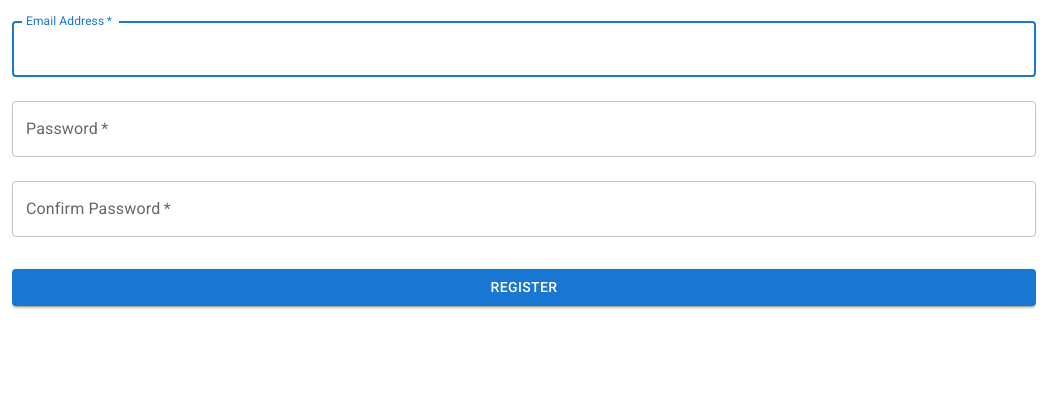
RegistrationForm › should display error message on failed registration
Step 1. Type "existing@example.com" into the field labelled "Email Address *" → (524, 49), box [12,21,1036,77]
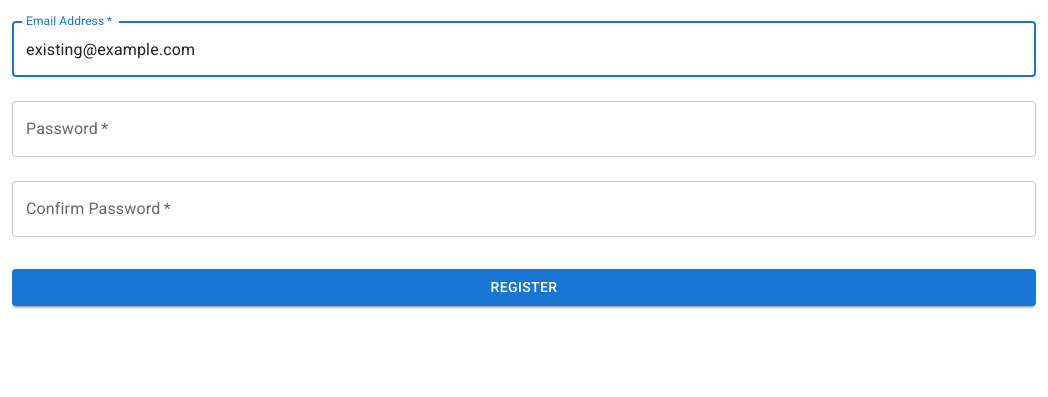
Step 2. Type "password123" into the password field labelled "Password *" → (524, 129), box [12,101,1036,157]
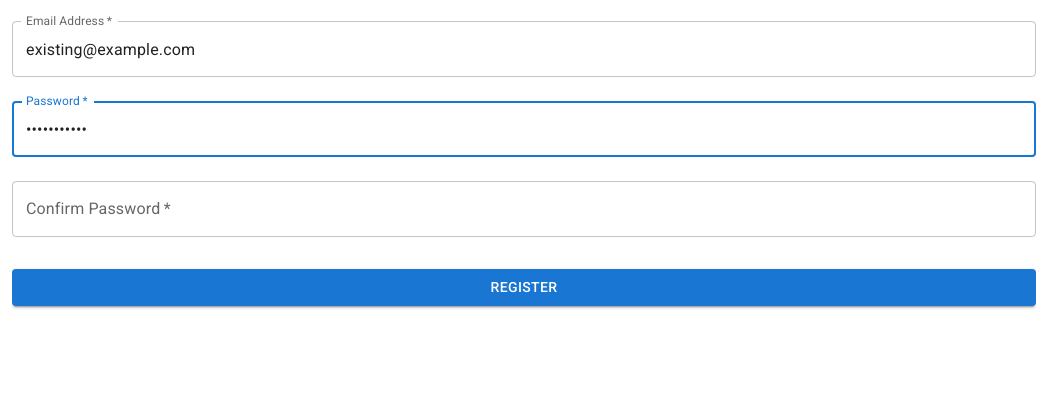
Step 3. Type "password123" into the password field labelled "Confirm Password *" → (524, 209), box [12,181,1036,237]
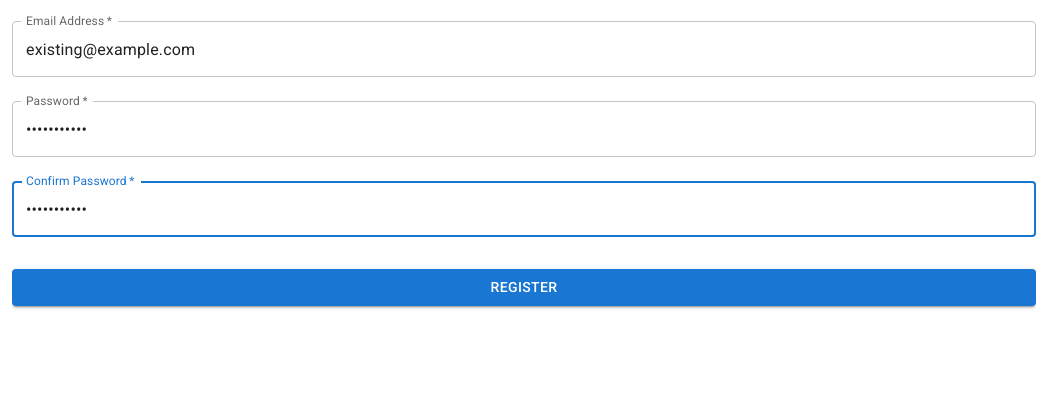
Step 4. Click the button "Register" → (524, 287), box [12,269,1036,306]
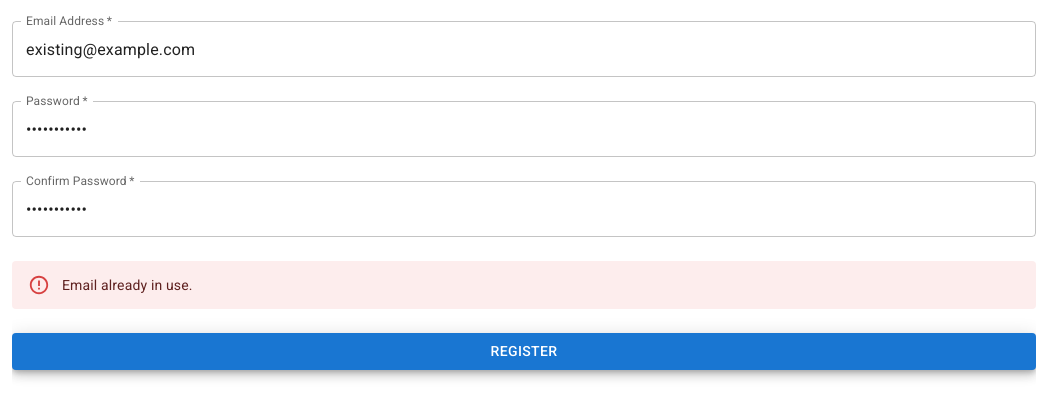
Check: the text "Email already in use." is shown, box [62,277,193,293]
